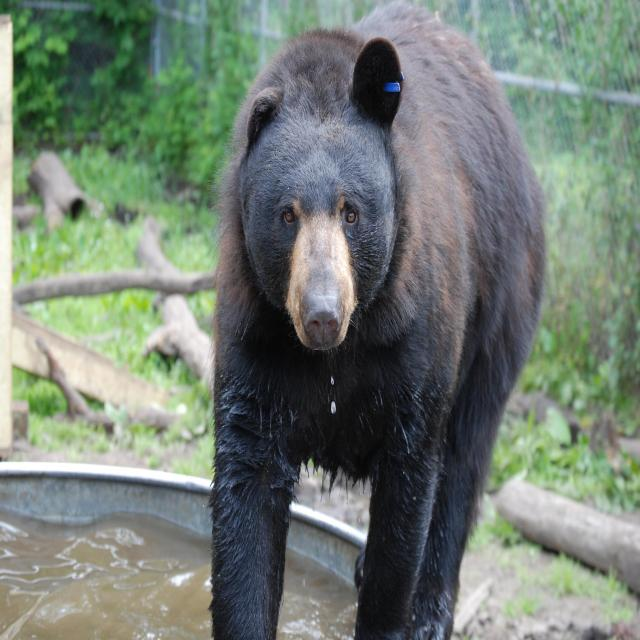Bear: (209, 3, 547, 640)
